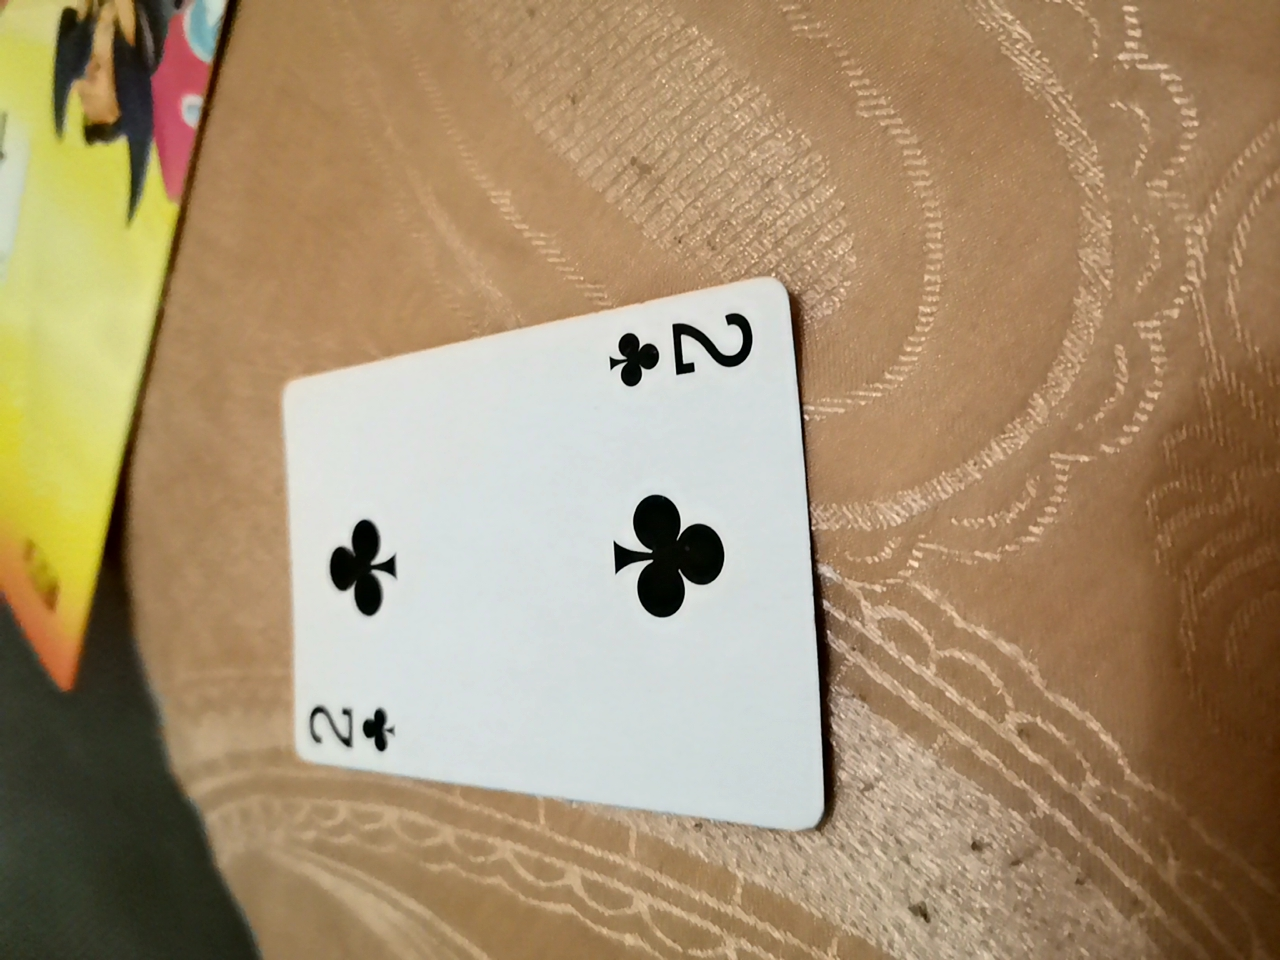mh 2: (277, 267, 833, 832)
